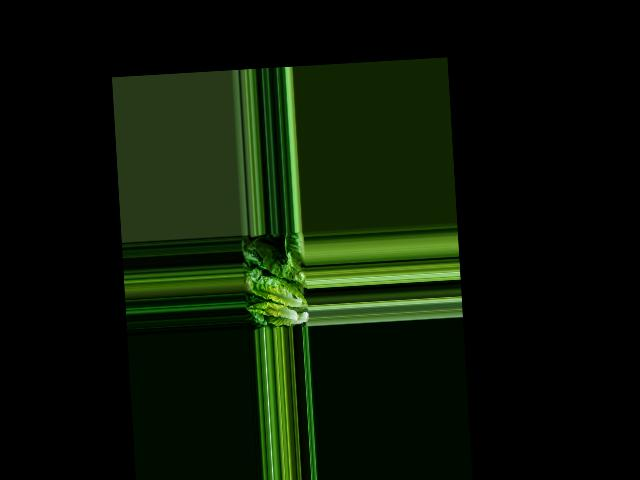lettuce: (247, 264, 310, 328)
